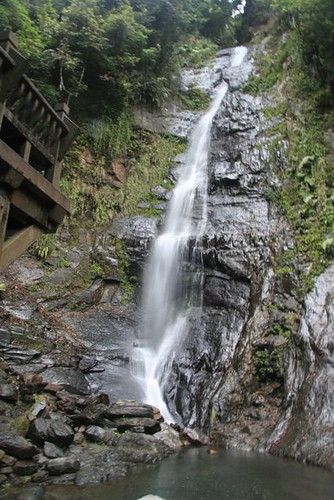wufengciWaterfall: (88, 33, 276, 426)
